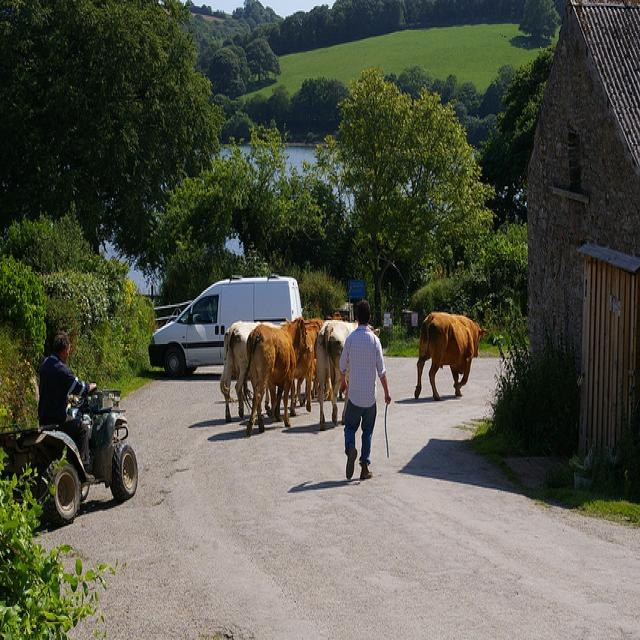Vehicle: (148, 274, 302, 379)
